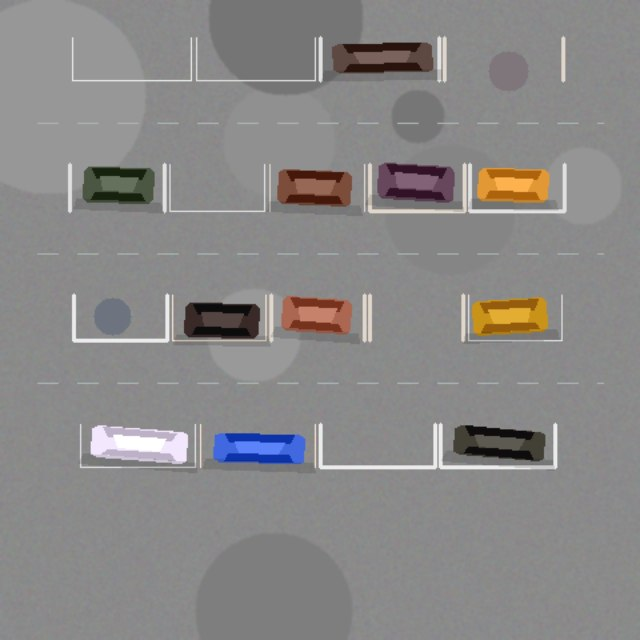space-empty: (72, 37, 191, 80), (196, 37, 315, 80), (444, 37, 563, 80), (320, 424, 435, 467), (169, 164, 264, 211), (73, 295, 167, 340), (369, 295, 463, 340)
space-occupied: (320, 37, 439, 80), (80, 424, 195, 467), (200, 424, 315, 467), (440, 424, 555, 467), (69, 164, 164, 211), (269, 164, 364, 211), (369, 164, 464, 211), (469, 164, 564, 211), (172, 295, 265, 340), (271, 295, 364, 340), (468, 295, 561, 340)
